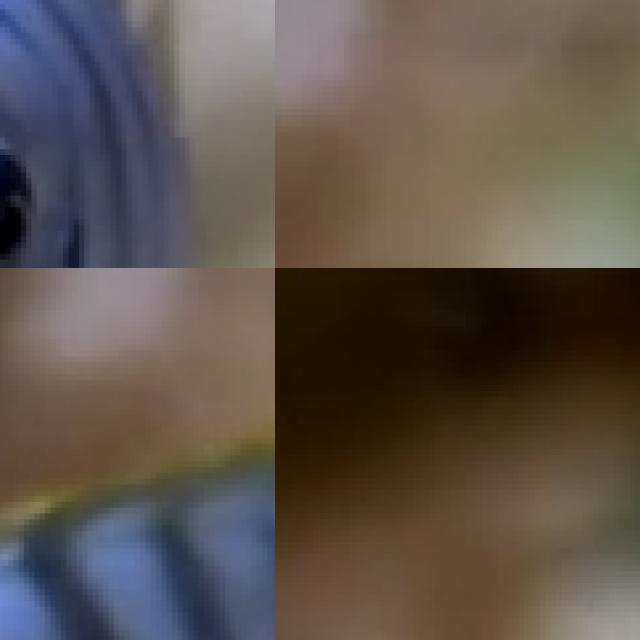fish: (275, 268, 640, 640), (0, 0, 275, 268)
